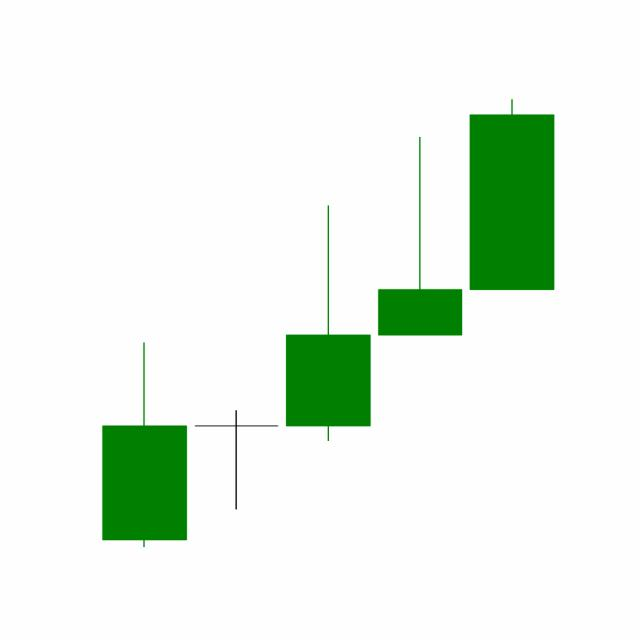Marubozu: (464, 96, 558, 291)
